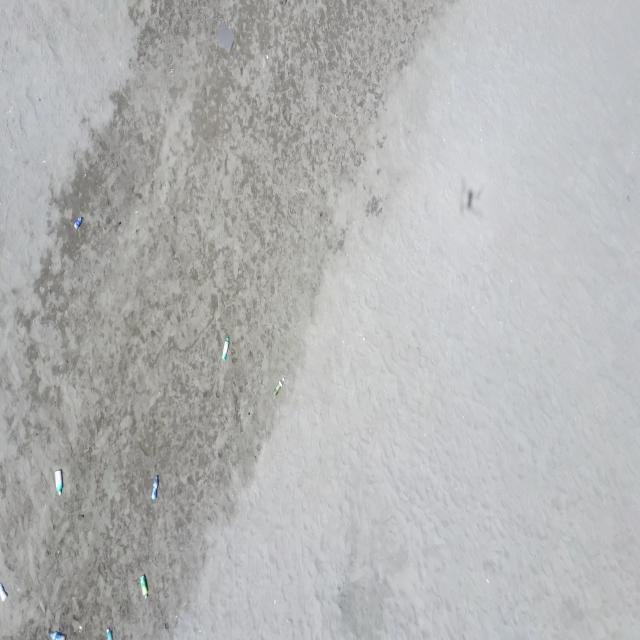plastic-bottle: (272, 375, 286, 398), (54, 469, 65, 496), (139, 574, 150, 600), (220, 335, 230, 362), (152, 475, 160, 502), (72, 215, 84, 231), (0, 582, 9, 603), (51, 629, 68, 640), (106, 627, 114, 640)
